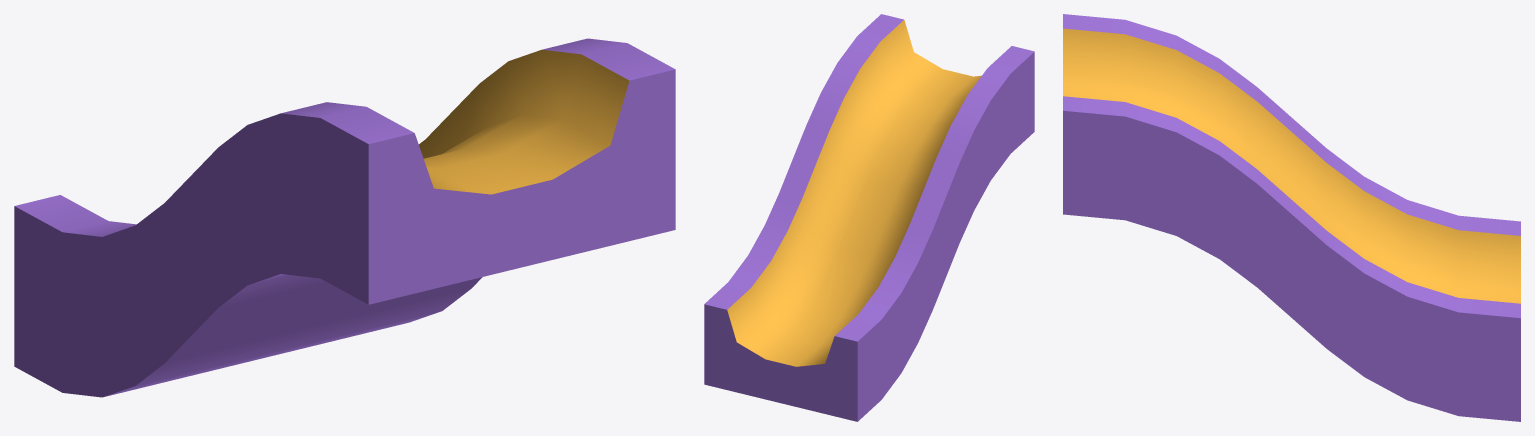
The model's file is ramp-long-c.glb.
3 renders of one model, left to right at view 1: azimuth 30°, elevation 25°; view 2: azimuth 150°, elevation 25°; view 3: azimuth 270°, elevation 25°, orthographic. The views are drawn at different scales.
Visible parts, largest first — view 1: ramp-long-c; view 2: ramp-long-c; view 3: ramp-long-c.
Boxes of the visible parts, x1,y1,x2,y2 form: ramp-long-c: (14,38,675,397); ramp-long-c: (704,14,1034,421); ramp-long-c: (1063,14,1520,421).
Bounding box in the file's own units: 1 × 1.5 × 2.
1 material, 1 textured.
